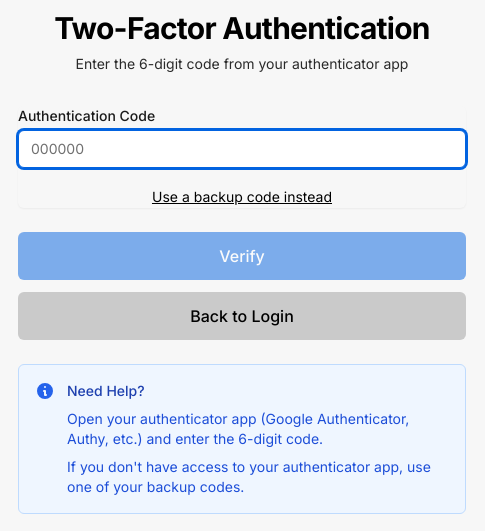
Test: MFAVerificationPage › Backup Code Toggle › should limit backup code to 16 characters
Switch to backup code
Click the button "Use a backup code instead": (242, 197) [152,187,332,207]
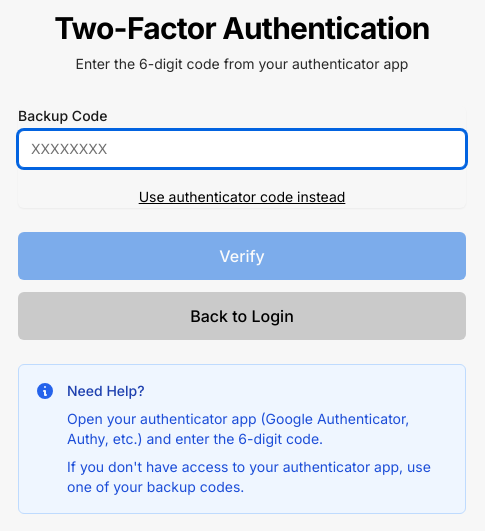
In the field labelled "Backup Code": (242, 149) [18,130,466,168], type "ABCDEFGHIJKLMNOPQRSTUVWXYZ"
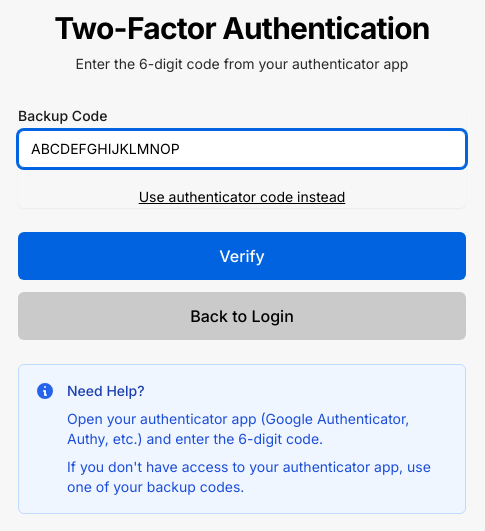
Expected: the field labelled "Backup Code" holds "ABCDEFGHIJKLMNOP", [18,130,466,168]
